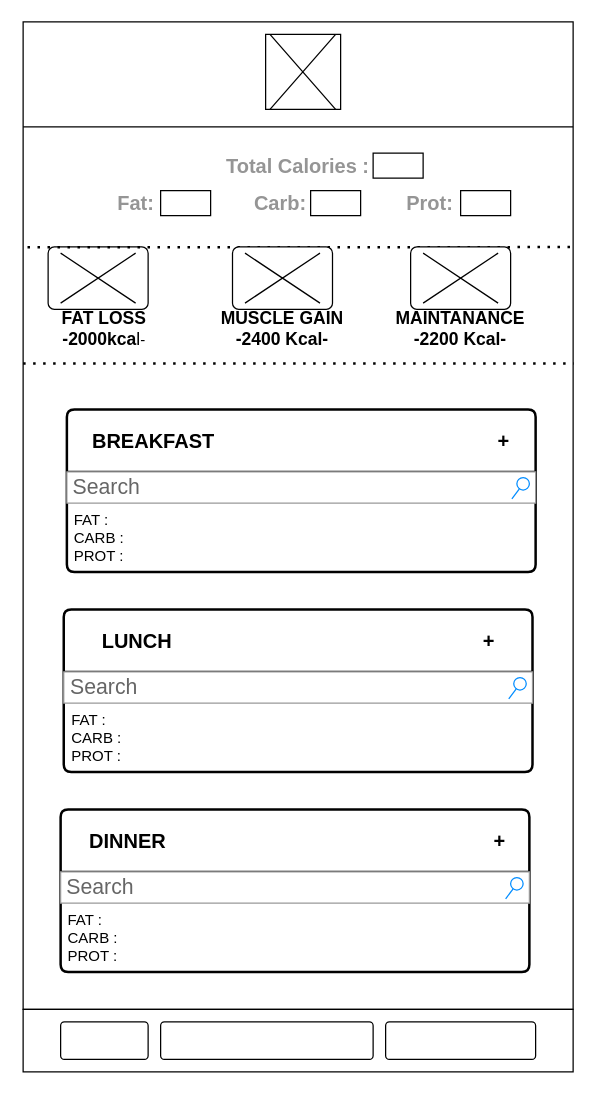
The diagram is 599 pixels wide and 1094 high, and some of its shapes have lost their labels. The shapes that lost their labels are listed below. From the top down, each one's box as (x1, y1, x2, y2) in pixels, then its label:
(59, 1021, 148, 1059): GOAL
(159, 1021, 373, 1059): CALORIE CALCULATOR
(384, 1021, 536, 1059): NOTIFICATION
